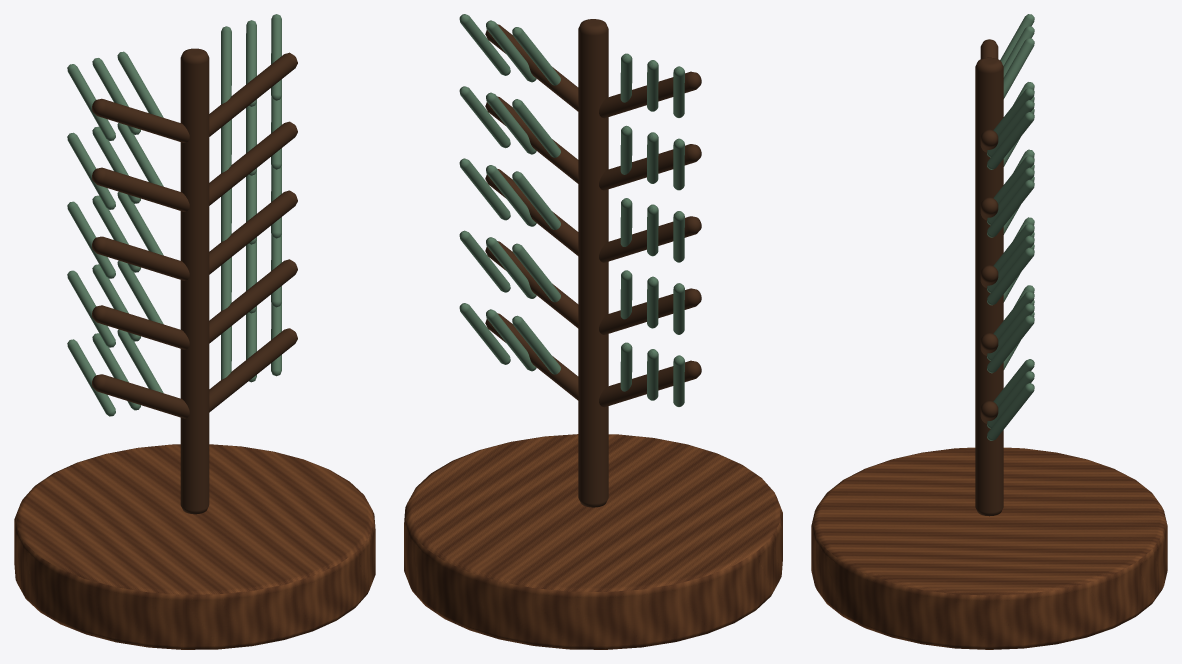
The model's file is Pickup_Pine.fbx.
The picture shows the model from 3 angles, left to right: view 1: azimuth 30°, elevation 25°; view 2: azimuth 150°, elevation 25°; view 3: azimuth 270°, elevation 25°; orthographic projection. The views are drawn at different scales.
Parts seen in each view (by area): view 1: Token round plinth.006, Pine twig.001, Pine branch.015, Pine branch.013, Pine branch.019, Pine branch.011, Pine branch.017, Pine branch.014, Pine branch.016, Pine branch.012, Pine branch.010, Pine branch.018 (+28 smaller); view 2: Token round plinth.006, Pine twig.001, Pine branch.018, Pine branch.010, Pine branch.012, Pine branch.016, Pine branch.014, Pine branch.013, Pine branch.017, Pine branch.011, Pine branch.019, Pine branch.015 (+30 smaller); view 3: Token round plinth.006, Pine twig.001, Pine needle.053, Pine needle.059, Pine needle.041, Pine needle.047, Pine needle.035, Pine needle.054, Pine needle.052, Pine needle.058, Pine needle.040, Pine needle.046 (+1 smaller).
Part boxes in pixels (<box>): Token round plinth.006: <box>14,444,375,649</box>; Pine twig.001: <box>180,48,209,514</box>; Pine branch.015: <box>209,190,297,274</box>; Pine branch.013: <box>209,259,297,343</box>; Pine branch.019: <box>209,52,297,136</box>; Pine branch.011: <box>209,328,297,412</box>; Pine branch.017: <box>209,121,297,205</box>; Pine branch.014: <box>92,236,189,280</box>; Pine branch.016: <box>92,167,189,211</box>; Pine branch.012: <box>92,305,189,349</box>; Pine branch.010: <box>92,374,189,418</box>; Pine branch.018: <box>92,98,189,142</box>; Token round plinth.006: <box>404,434,782,649</box>; Pine twig.001: <box>578,19,608,507</box>; Pine branch.018: <box>599,71,701,118</box>; Pine branch.010: <box>599,360,701,407</box>; Pine branch.012: <box>599,288,701,334</box>; Pine branch.016: <box>599,144,701,190</box>; Pine branch.014: <box>599,216,701,262</box>; Pine branch.013: <box>485,241,578,328</box>; Pine branch.017: <box>485,96,578,183</box>; Pine branch.011: <box>485,313,578,400</box>; Pine branch.019: <box>485,24,578,111</box>; Pine branch.015: <box>485,169,578,255</box>; Token round plinth.006: <box>811,447,1167,649</box>; Pine twig.001: <box>975,57,1003,516</box>; Pine needle.053: <box>987,179,1034,237</box>; Pine needle.059: <box>987,112,1034,169</box>; Pine needle.041: <box>987,315,1034,373</box>; Pine needle.047: <box>987,247,1034,305</box>; Pine needle.035: <box>987,383,1034,440</box>; Pine needle.054: <box>1003,38,1034,98</box>; Pine needle.052: <box>987,167,1034,225</box>; Pine needle.058: <box>987,100,1034,157</box>; Pine needle.040: <box>987,303,1034,360</box>; Pine needle.046: <box>987,235,1034,293</box>.
Size of the model in its own units: 0.1 by 0.16 by 0.1.
3 materials, 1 textured.
